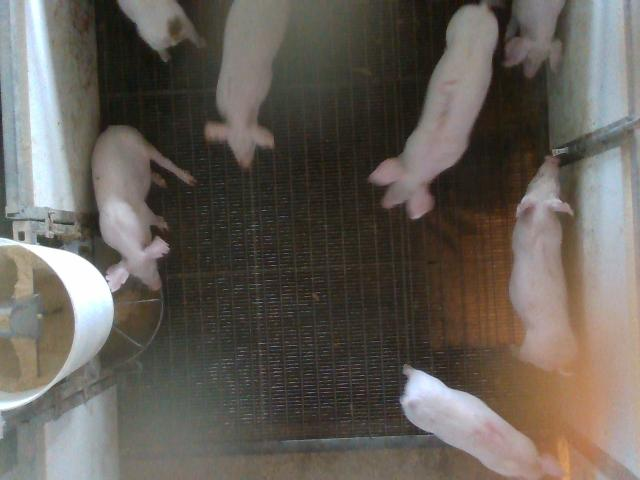pig-3: (369, 2, 499, 218)
pig-4: (400, 366, 560, 478)
